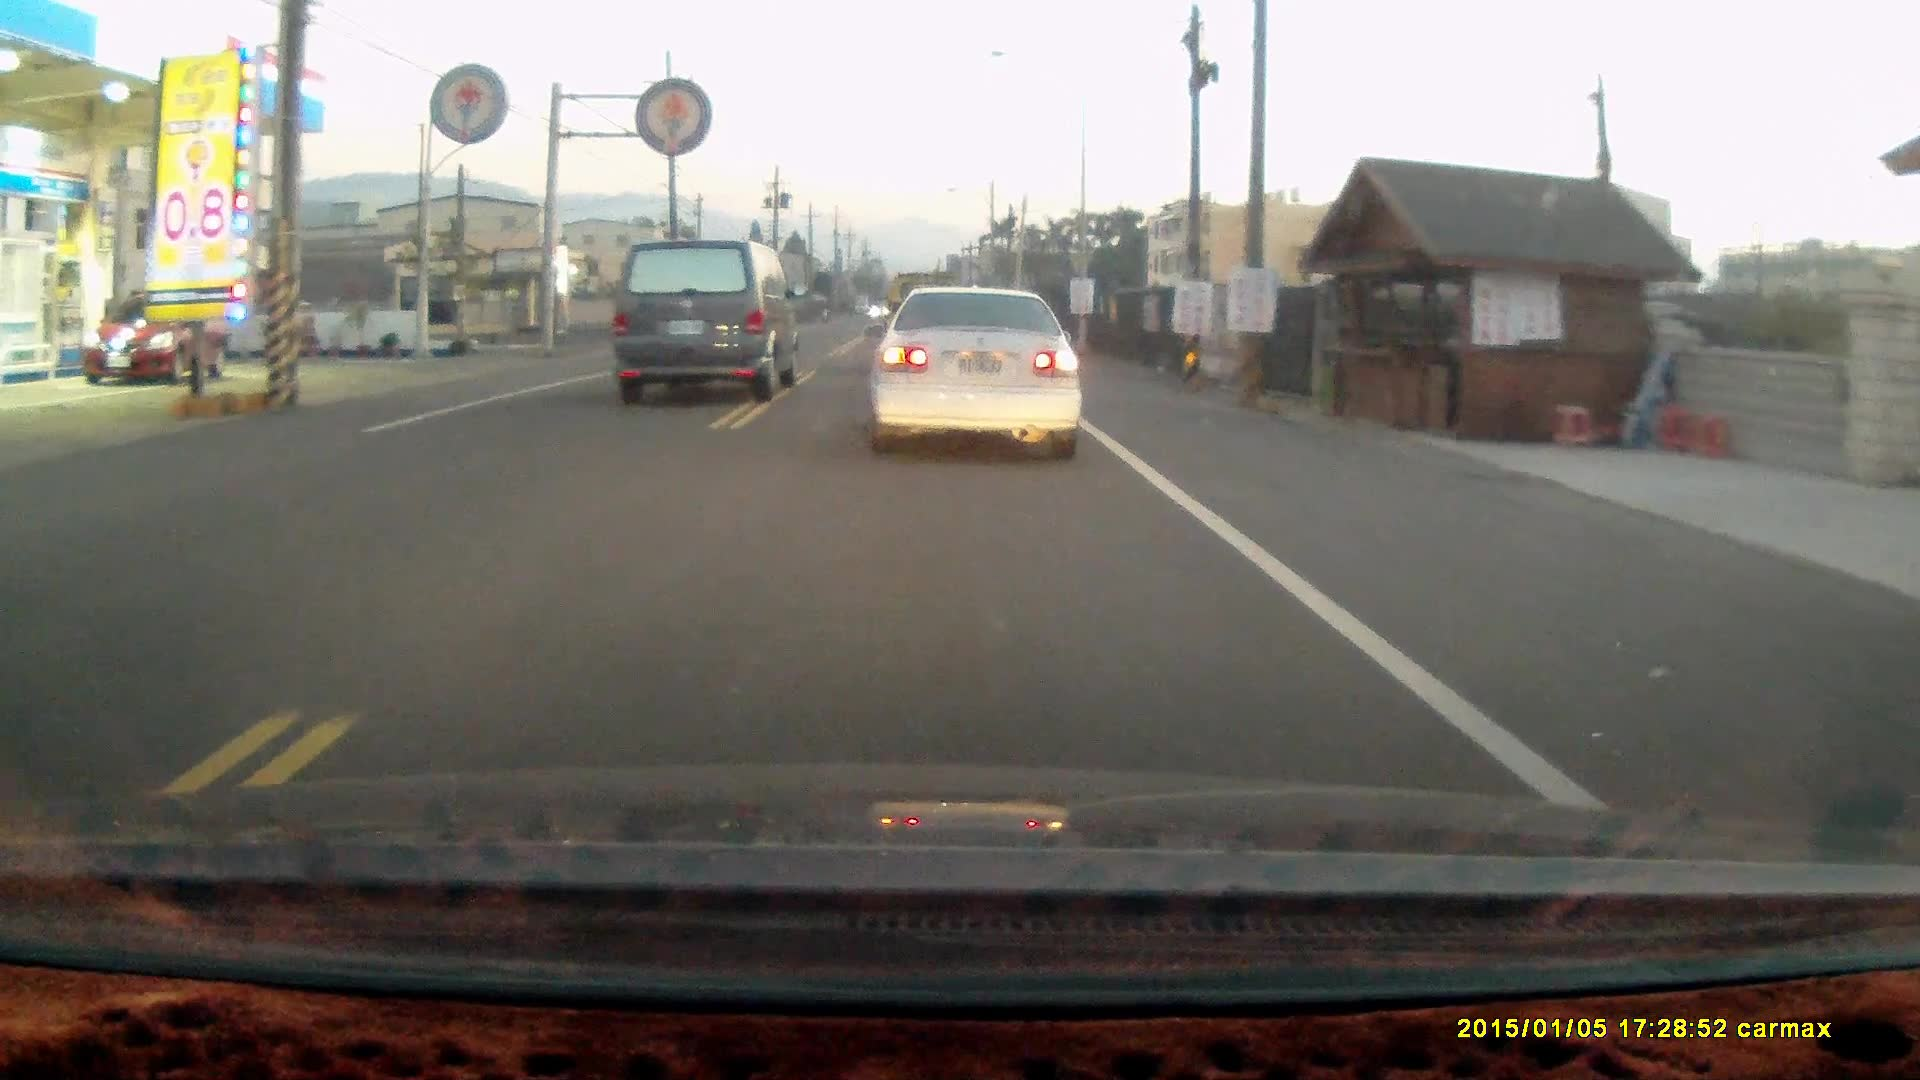vehicle: (862, 284, 1091, 465), (609, 237, 800, 401), (91, 293, 233, 390)
